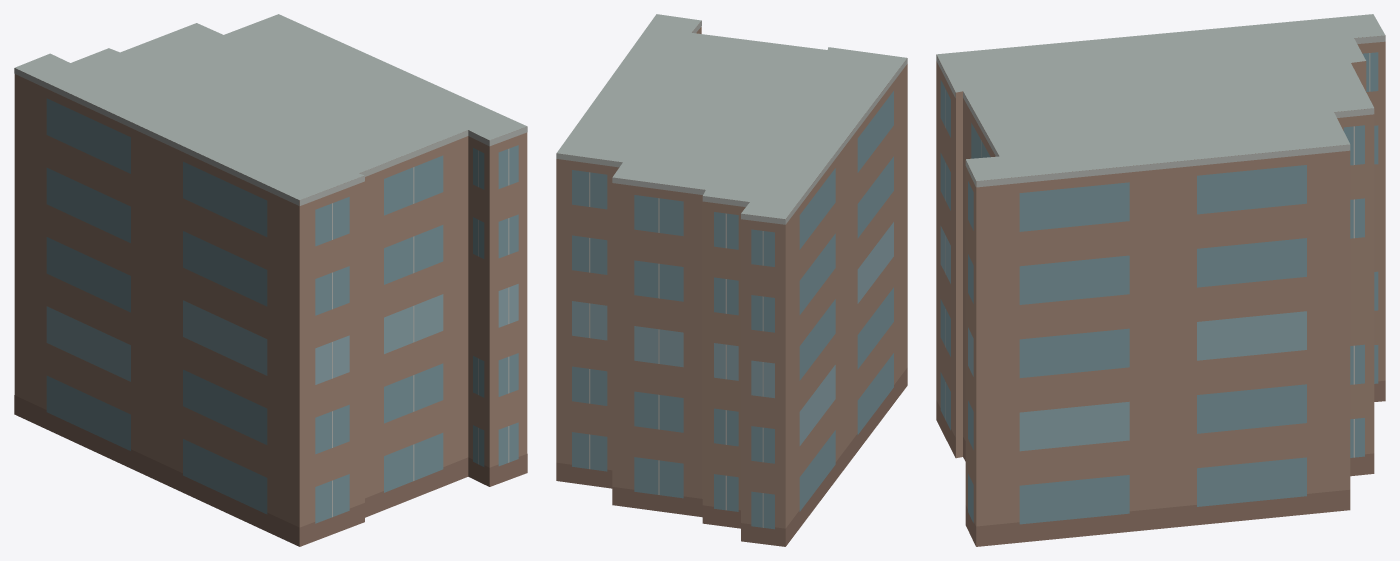
Rendered from survey-upis-32694446.glb.
The picture shows the model from 3 angles, left to right: view 1: azimuth 30°, elevation 25°; view 2: azimuth 150°, elevation 25°; view 3: azimuth 270°, elevation 25°; orthographic projection. The views are drawn at different scales.
Parts seen in each view (by area): view 1: survey-upis-32694446.tmp; view 2: survey-upis-32694446.tmp; view 3: survey-upis-32694446.tmp.
Boxes of the visible parts, x1,y1,x2,y2 form: survey-upis-32694446.tmp: [14, 14, 527, 546]; survey-upis-32694446.tmp: [556, 14, 907, 546]; survey-upis-32694446.tmp: [936, 14, 1385, 546].
Bounding box in the file's own units: 13.98 × 14.25 × 15.87.
